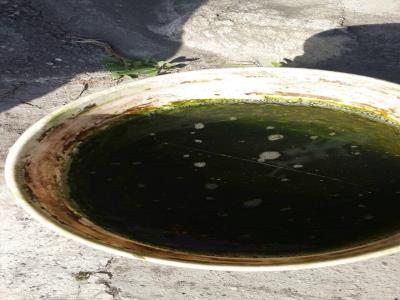bowl: (5, 65, 396, 277)
